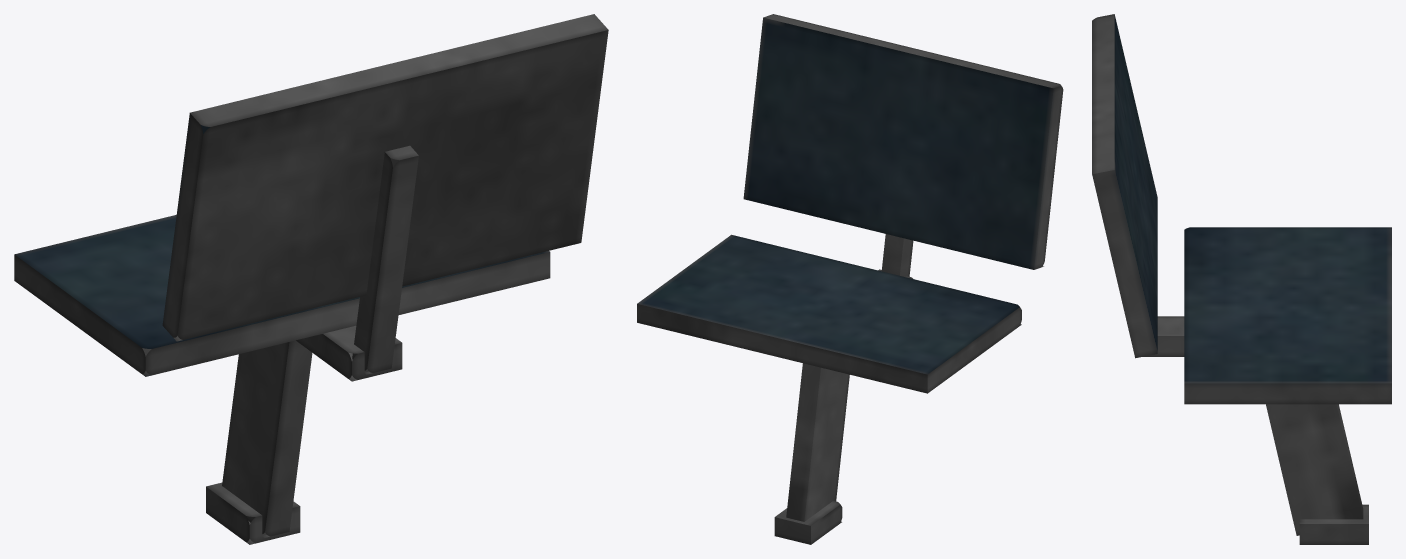
File: street_bench.obj
3 views of the same model, side by side, from view 1: azimuth 30°, elevation 25°; view 2: azimuth 150°, elevation 25°; view 3: azimuth 270°, elevation 25° (orthographic). The views are drawn at different scales.
Parts seen in each view (by area): view 1: qp, ll, lj, lm, li, lk; view 2: qp, ll, lj, li, lm; view 3: ll, qp, lj, li, lk.
Part boxes in pixels (x1=…): qp: x1=162, y1=14, x2=608, y2=341; ll: x1=14, y1=215, x2=550, y2=376; lj: x1=222, y1=340, x2=312, y2=537; lm: x1=352, y1=145, x2=418, y2=374; li: x1=206, y1=482, x2=300, y2=544; lk: x1=296, y1=325, x2=402, y2=381; qp: x1=743, y1=14, x2=1063, y2=269; ll: x1=637, y1=234, x2=1021, y2=393; lj: x1=786, y1=363, x2=849, y2=521; li: x1=774, y1=501, x2=842, y2=544; lm: x1=881, y1=234, x2=913, y2=276; ll: x1=1184, y1=227, x2=1391, y2=404; qp: x1=1092, y1=14, x2=1157, y2=358; lj: x1=1266, y1=404, x2=1363, y2=535; li: x1=1299, y1=504, x2=1368, y2=544; lk: x1=1143, y1=316, x2=1184, y2=356.
Bounding box in the file's own units: 1 × 1.33 × 0.8125.
1 material, 1 textured.
